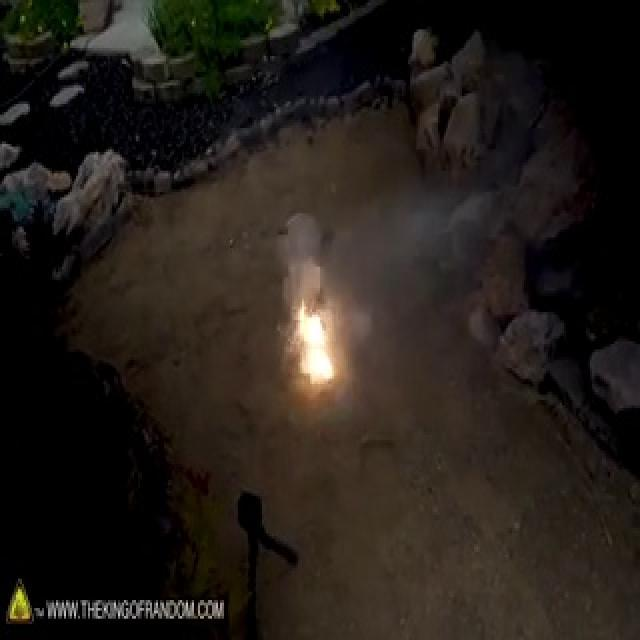Fire: (290, 312, 336, 385)
Smoke: (334, 152, 532, 384)
